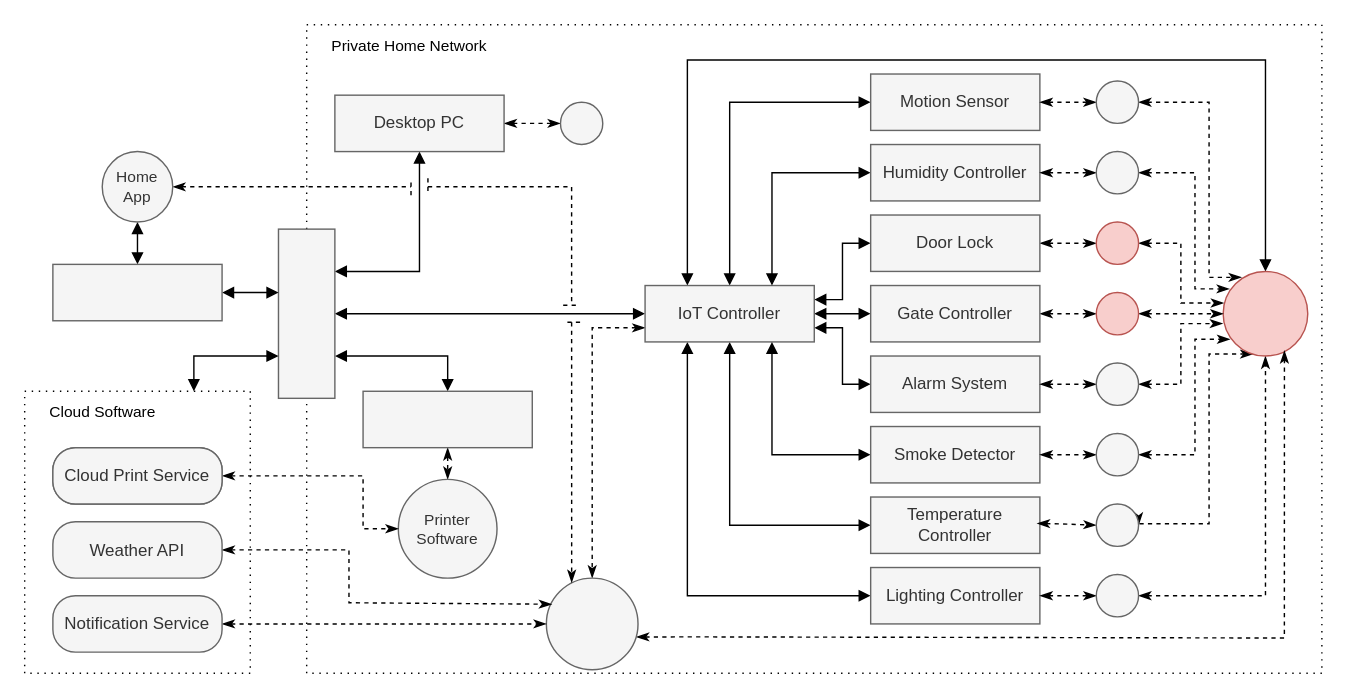
Image size: 1347x698. Some labels were removed from this diagram. The shapes that lost their labels are listed below. From the top down, each one's box as (x1, y1, x2, y2) in pixels, then its label:
(51, 263, 222, 321): Mobile Device
(277, 228, 335, 398): Router
(1222, 270, 1308, 356): Database
(362, 390, 532, 448): Printer
(545, 577, 638, 670): Controller Software
